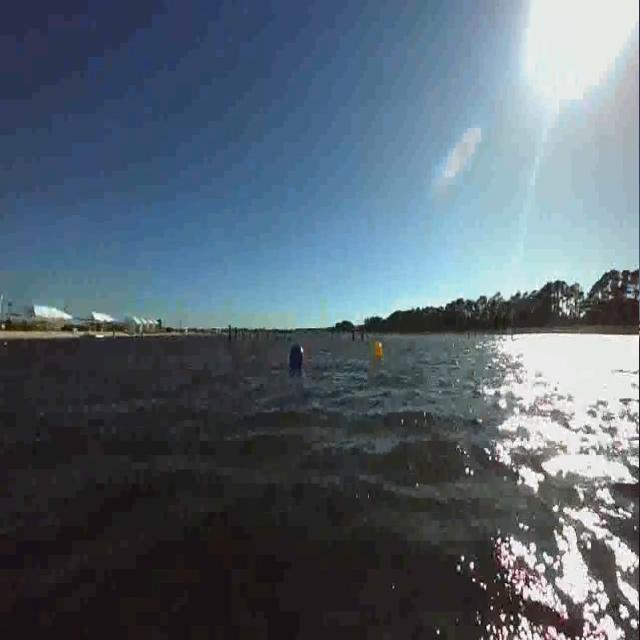blue-buoy: (288, 342, 304, 372)
yellow-buoy: (373, 337, 384, 360)
